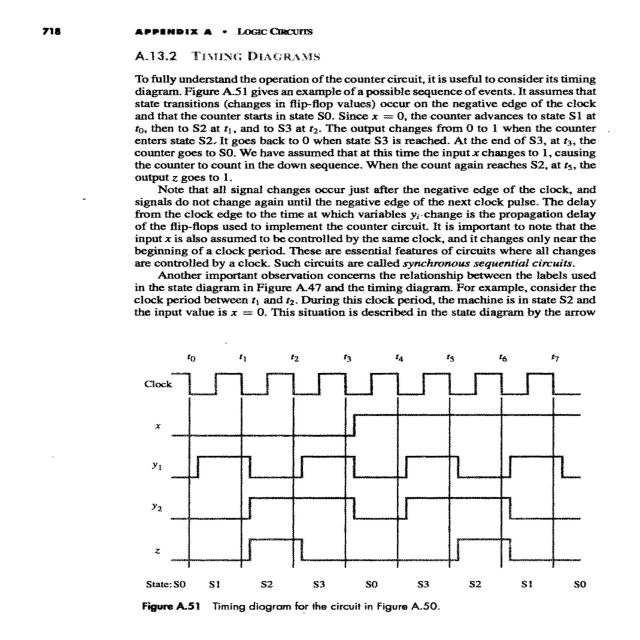diagram: (89, 329, 637, 633)
